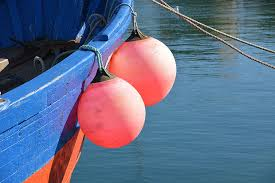buoy: (77, 78, 146, 148), (110, 39, 177, 104)
